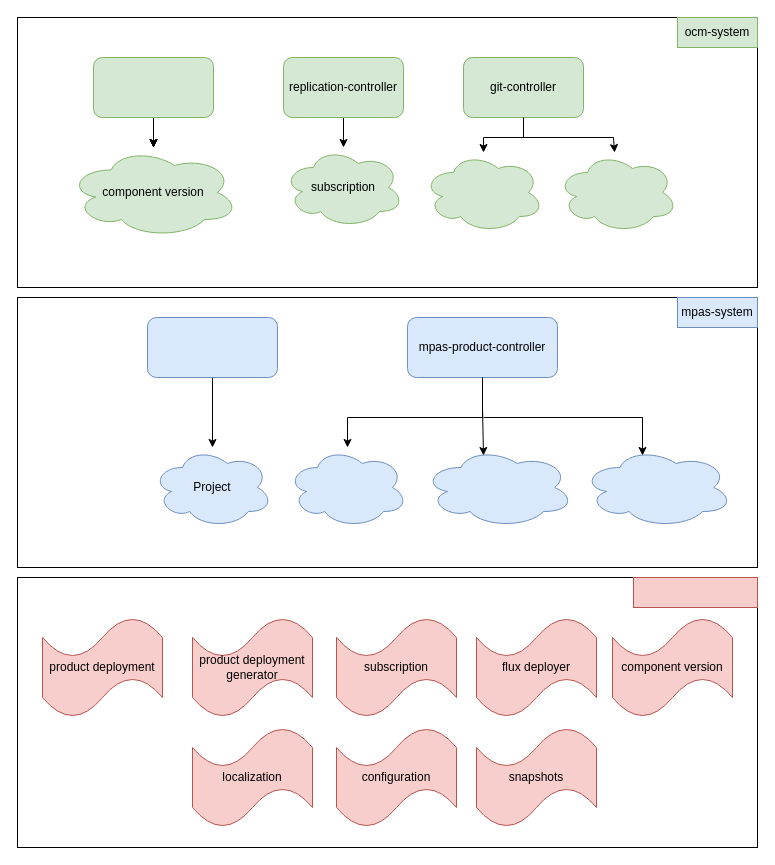
Image size: 775x865. Some labels were removed from this diagram. The shapes that lost their labels are listed below. From the top down, each one's centre as x and y in pixels, then its label:
At point 153,87: "ocm-controller".
At point 483,192: "Sync".
At point 617,192: "Repository".
At point 212,347: "mpas-project-controller".
At point 347,487: "Product".
At point 498,487: "ProductGenerator".
At point 657,487: "Target".
At point 695,592: "mpas-sample-project".
